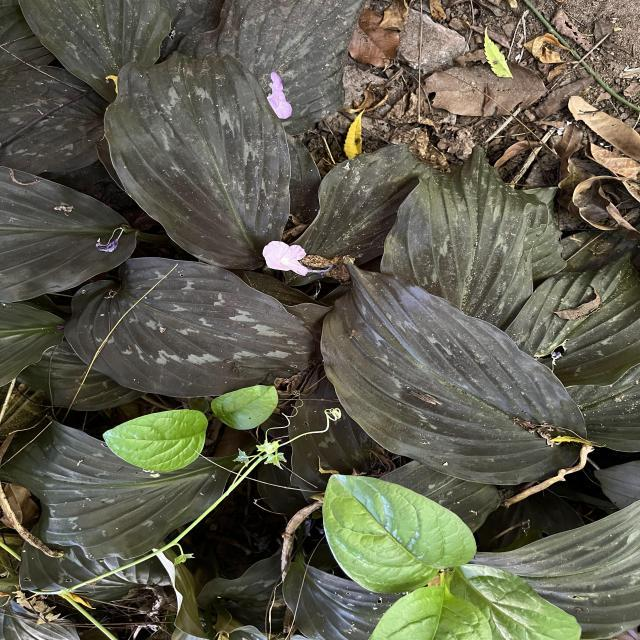Kaempferia galanga linn: (318, 261, 590, 487), (100, 49, 294, 272), (61, 254, 325, 401)
